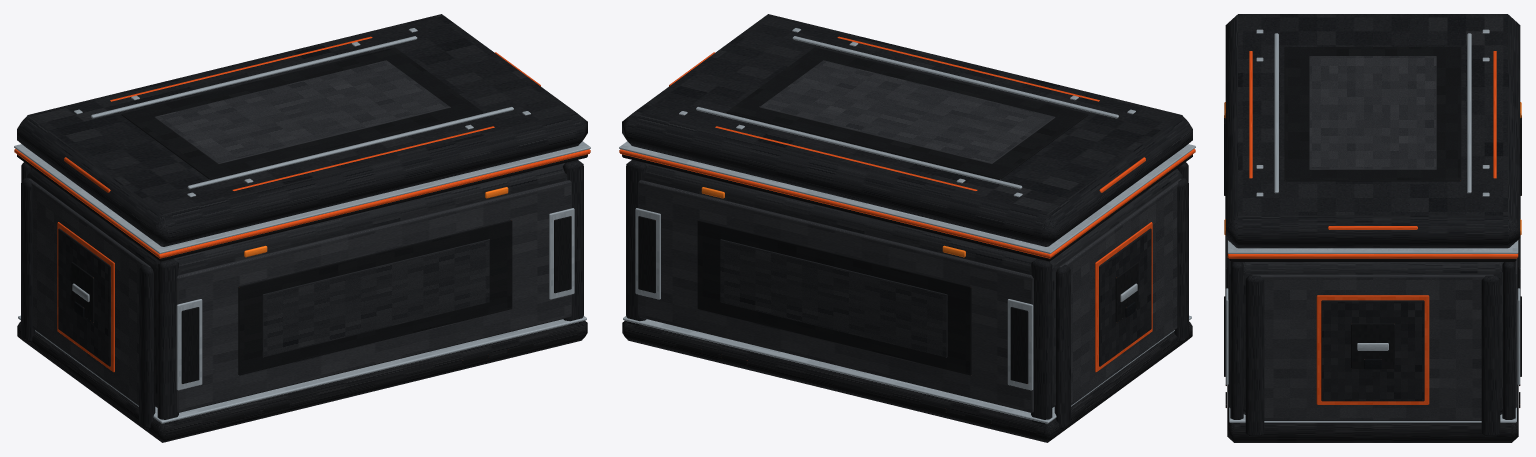
File: BlackOrangeCase.glb
3 renders of one model, left to right at view 1: azimuth 30°, elevation 25°; view 2: azimuth 150°, elevation 25°; view 3: azimuth 270°, elevation 25°, orthographic.
Parts seen in each view (by area): view 1: BlackOrangeCargoCase; view 2: BlackOrangeCargoCase; view 3: BlackOrangeCargoCase.
Part boxes in pixels (x1=…): BlackOrangeCargoCase: x1=14, y1=14, x2=590, y2=442; BlackOrangeCargoCase: x1=619, y1=14, x2=1195, y2=442; BlackOrangeCargoCase: x1=1224, y1=14, x2=1521, y2=442.
Bounding box in the file's own units: 7.44 × 3.64 × 4.3.
1 material, 1 textured.
